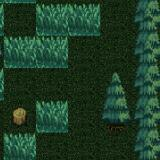Obstacle: (134, 0, 160, 160), (102, 100, 134, 134), (4, 101, 36, 133)
Slow: (36, 4, 100, 36), (4, 36, 68, 68), (36, 101, 68, 133), (3, 133, 36, 160)
